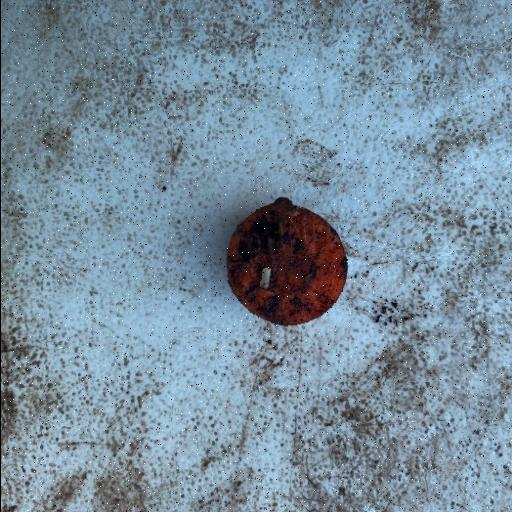Waste: (225, 196, 349, 326)
